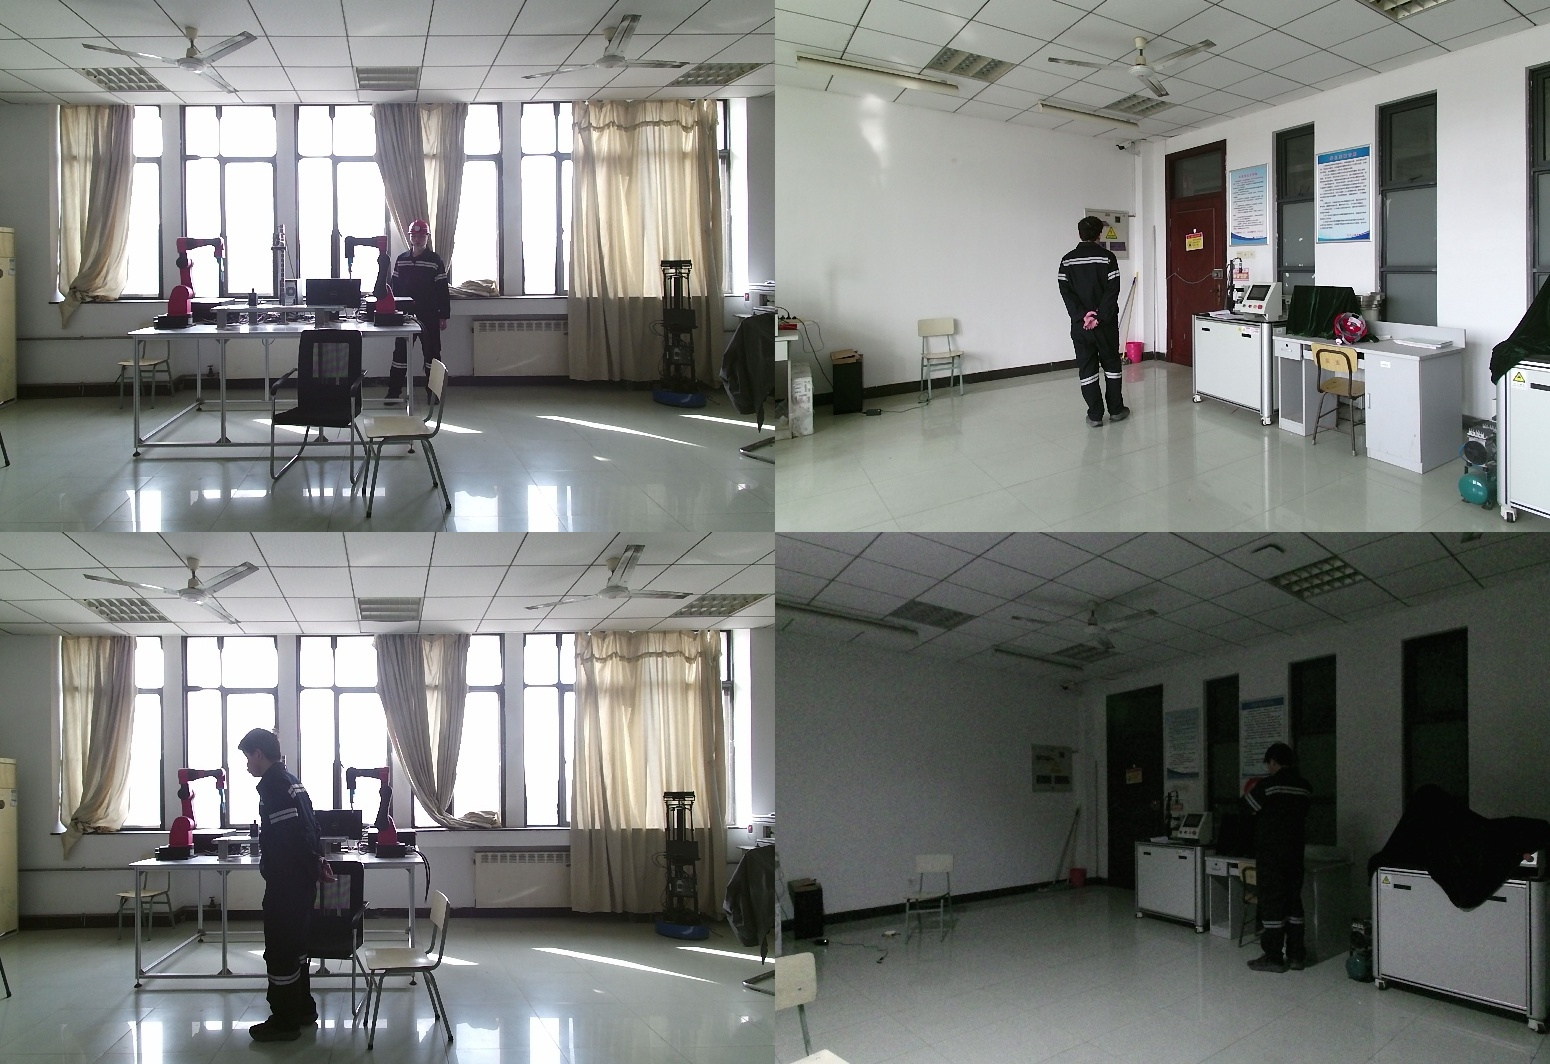person: (238, 728, 336, 1039), (1242, 744, 1335, 974), (1054, 215, 1135, 432), (387, 220, 455, 420)
